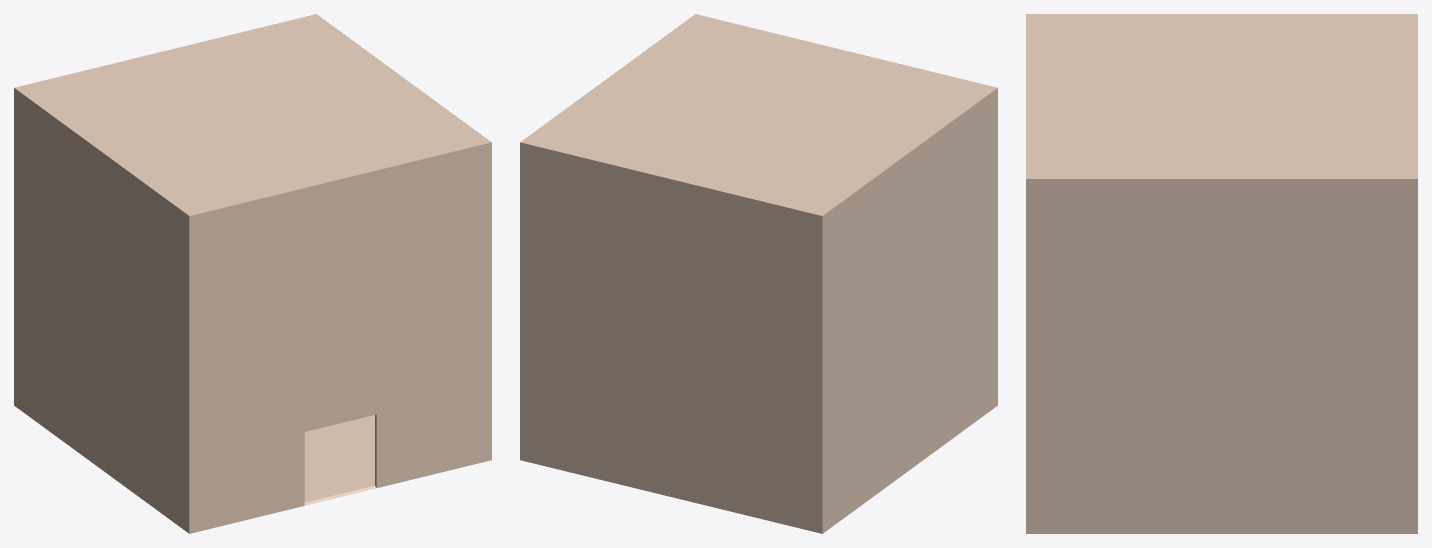
Rendered from Building_temp.fbx.
The picture shows the model from 3 angles, left to right: view 1: azimuth 30°, elevation 25°; view 2: azimuth 150°, elevation 25°; view 3: azimuth 270°, elevation 25°; orthographic projection. The views are drawn at different scales.
Parts seen in each view (by area): view 1: Building_temp; view 2: Building_temp; view 3: Building_temp.
Part boxes in pixels (<box>): Building_temp: <box>14,14,491,533</box>; Building_temp: <box>520,14,997,533</box>; Building_temp: <box>1026,14,1417,533</box>.
Size of the model in its own units: 597 by 600 by 600.
